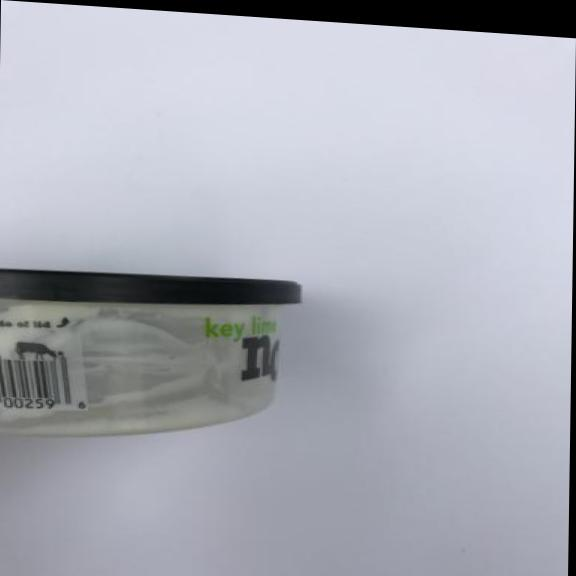Plastik: (0, 258, 320, 464)
